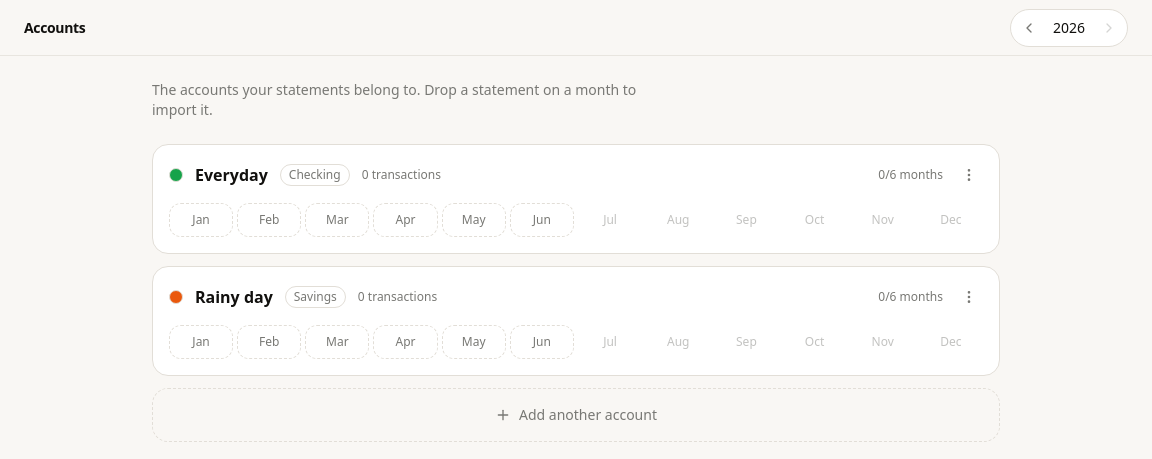
Test: AccountsView › pages the year over every strip at once
Check: the element named "Year" reads "2026", box [1053,18,1085,36]
Step 1. Click the button named "Previous year" → (1029, 28), box [1015,14,1043,42]
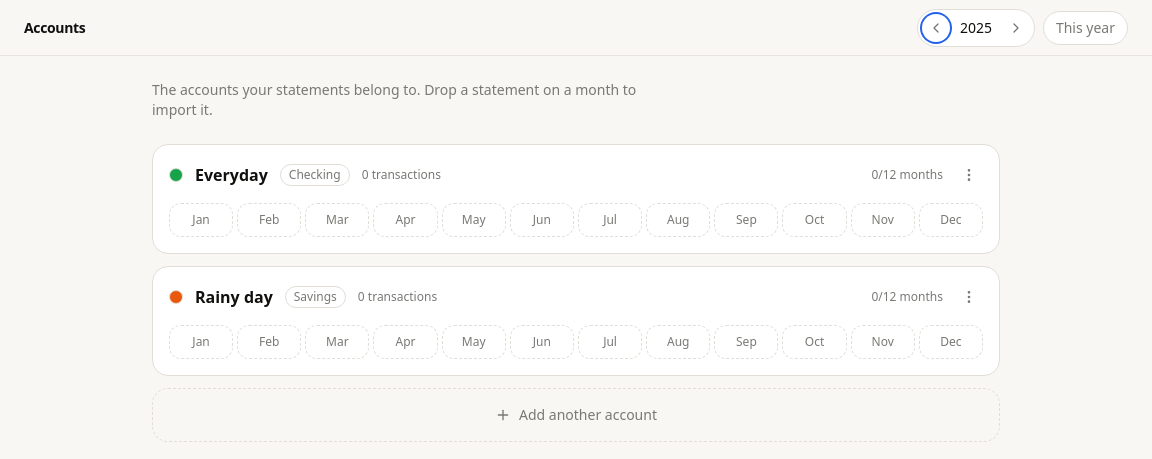
Step 2. Click the button named "Previous year" → (936, 28), box [922,14,950,42]
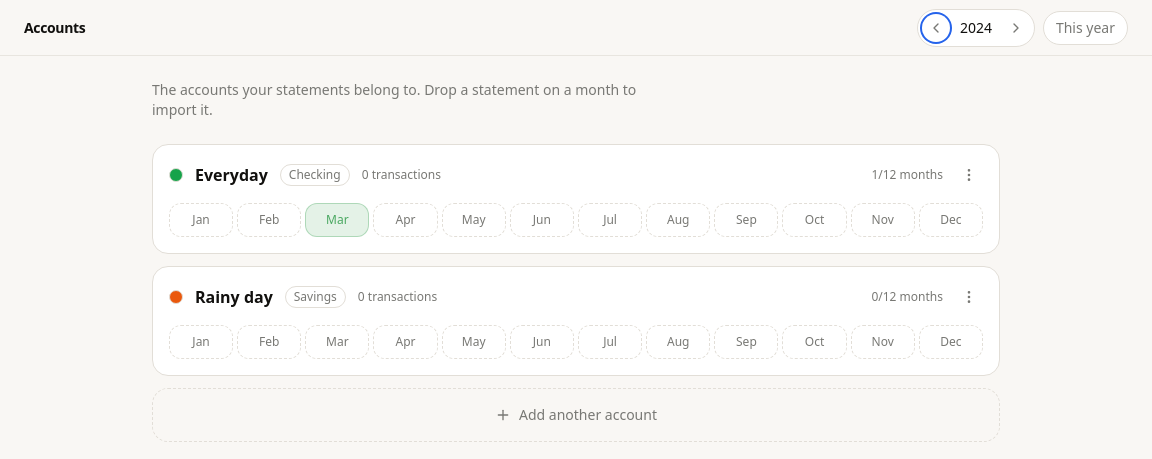
Check: the element named "Rainy day — 2024" is shown, box [169,325,983,359]
Check: the element named "Everyday — 2024" is shown, box [169,203,983,237]
Check: the button with aria-label "Mar 2024 — already imported" is shown, box [305,203,370,237]
